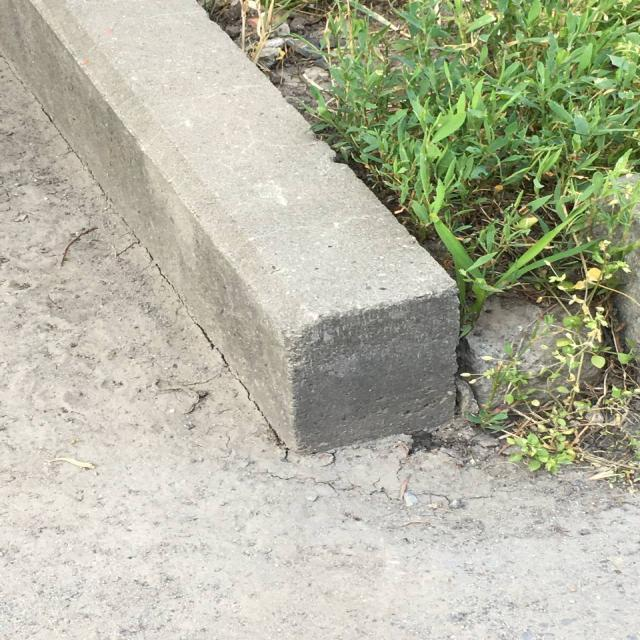bump: (1, 0, 460, 453)
